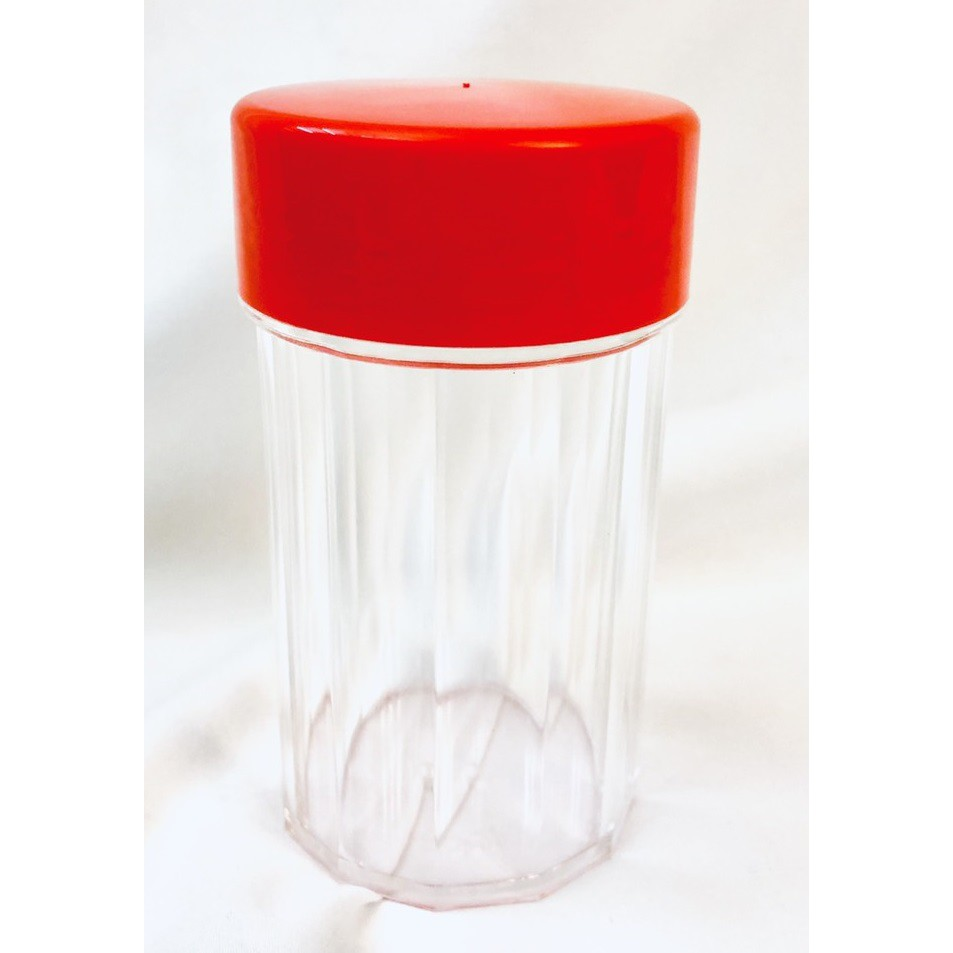medicinejar: (229, 74, 702, 912)
